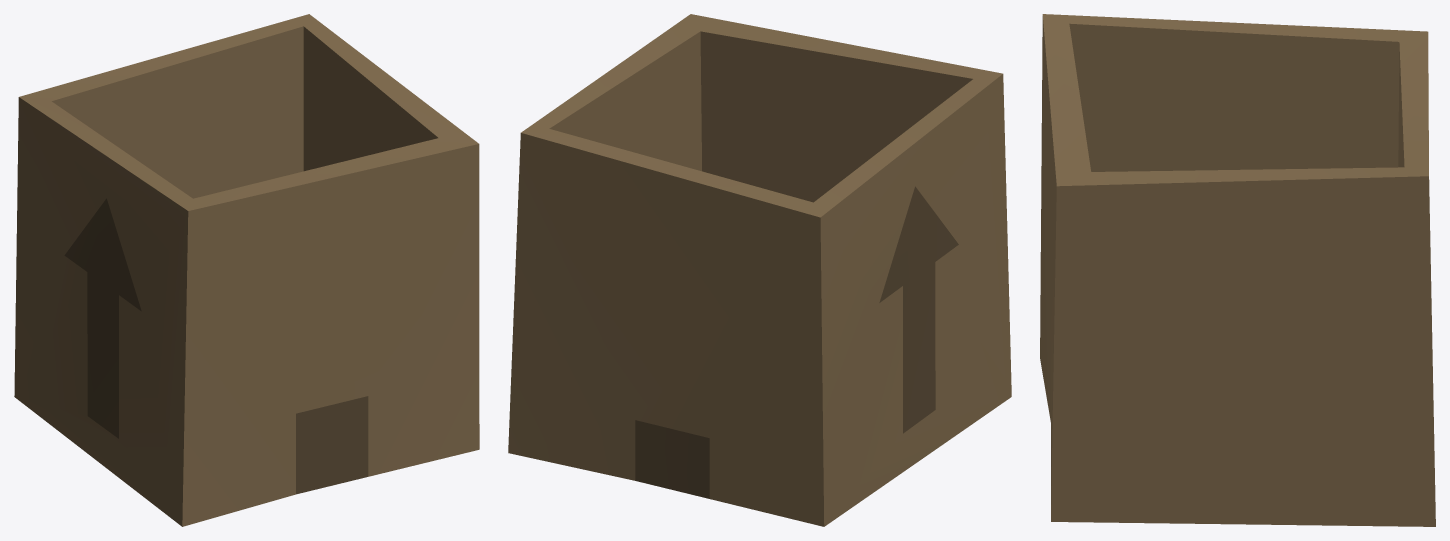
The picture shows the model from 3 angles, left to right: view 1: azimuth 30°, elevation 25°; view 2: azimuth 150°, elevation 25°; view 3: azimuth 270°, elevation 25°; orthographic projection. The views are drawn at different scales.
Parts seen in each view (by area): view 1: box_05; view 2: box_05; view 3: box_05.
Boxes of the visible parts, x1=… form: box_05: x1=14, y1=14, x2=479, y2=526; box_05: x1=508, y1=14, x2=1011, y2=526; box_05: x1=1040, y1=14, x2=1435, y2=526.
Size of the model in its own units: 71.7 by 68.98 by 71.11.
